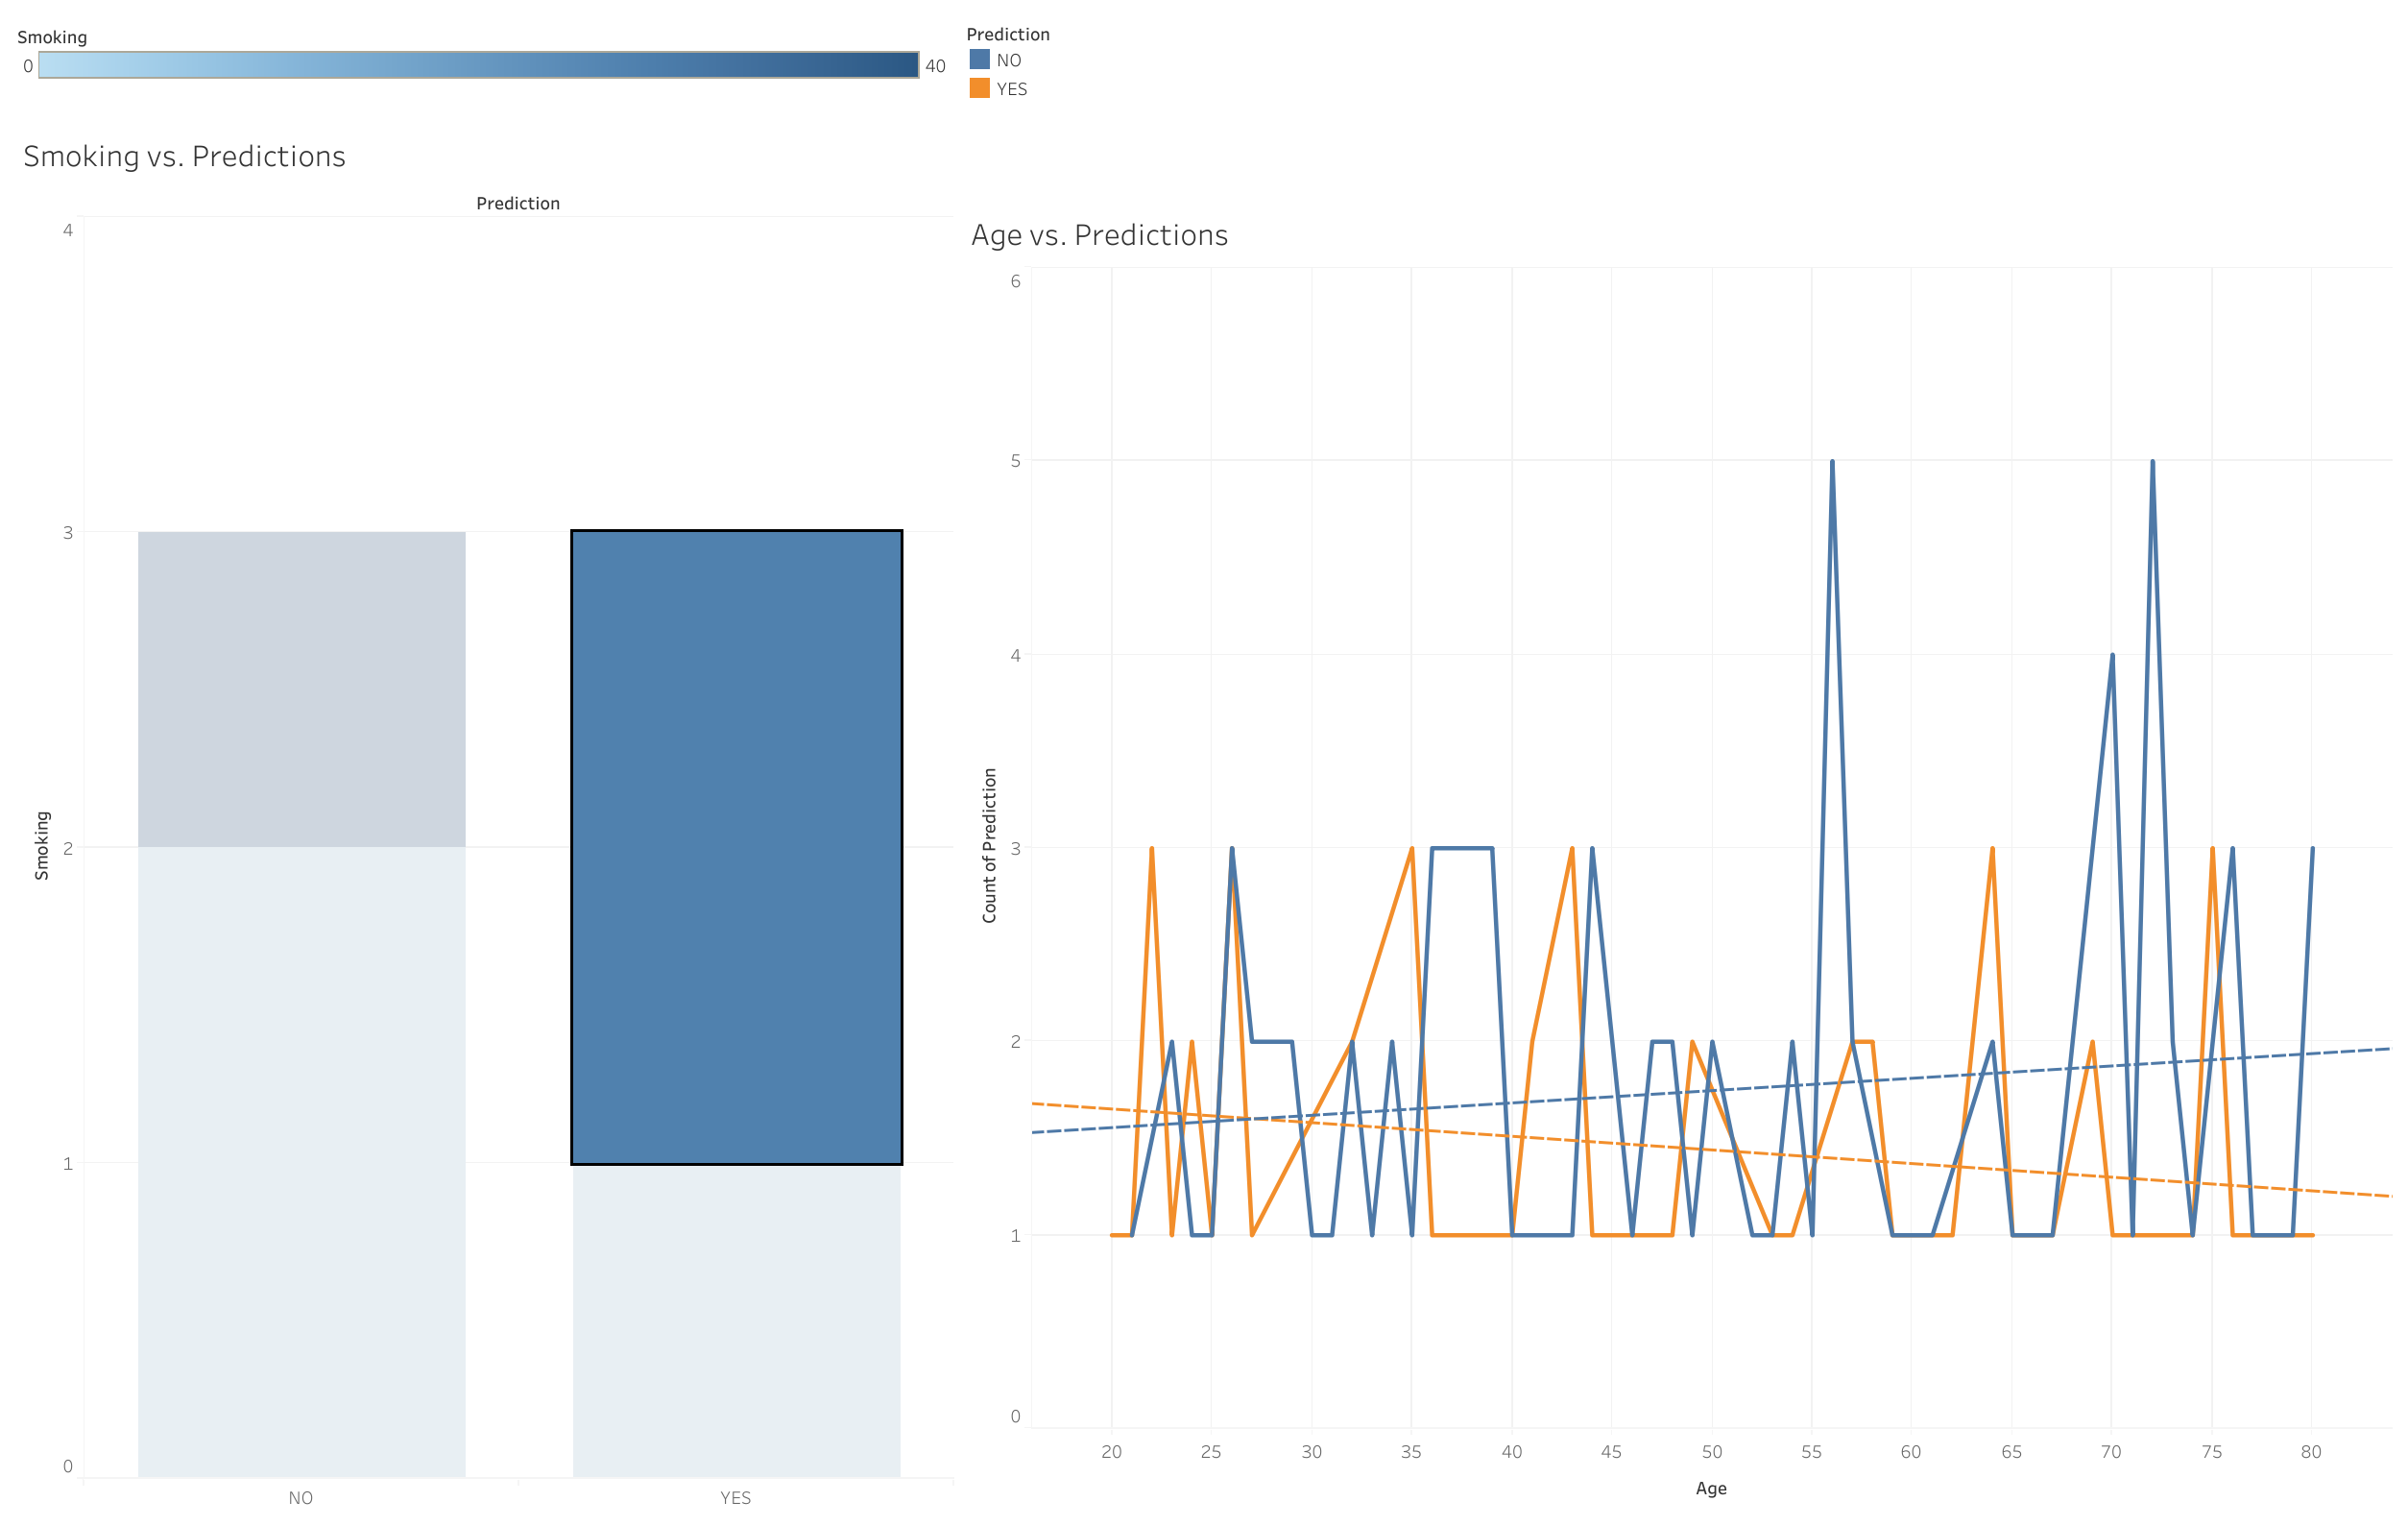

What the dashboard file says about the page in this screenshot:
{"tool":"tableau","page":{"name":"Dashboard 1","canvas":[1000,1000],"units":"permille","ordinal":0},"visuals":[{"type":"legend","title":"Smoking vs. Predictions","param":"[federated.1mzzchd0ar89do10kgwvw0w5a2k6].[sum:Smoking:qk]","box":[3.6,7.5,394,70.8]},{"type":"legend","title":"Age vs. Predictions","param":"[federated.1mzzchd0ar89do10kgwvw0w5a2k6].[none:Prediction:nk]","box":[397.6,7.5,598.8,122.6]},{"type":"worksheet","title":"Smoking vs. Predictions","mark":"Automatic","rows":["Smoking"],"cols":["Prediction"],"box":[3.6,78.3,394,914.1]},{"type":"worksheet","title":"Age vs. Predictions","mark":"Automatic","rows":["Prediction"],"cols":["Age"],"box":[397.6,130.2,598.8,862.3]}]}

Visuals, with their boxes on the dashboard's canvas, which has no fixed pixel size, in thousandths of its width and height (x1, y1, x2, y2). These are canvas units, not pixel positions in the 2408x1526 screenshot, which may show the page scaled, cropped or inside an application window:
"Smoking vs. Predictions" legend: select_region(4, 8, 398, 78)
"Age vs. Predictions" legend: select_region(398, 8, 996, 130)
"Smoking vs. Predictions" worksheet: select_region(4, 78, 398, 992)
"Age vs. Predictions" worksheet: select_region(398, 130, 996, 992)
